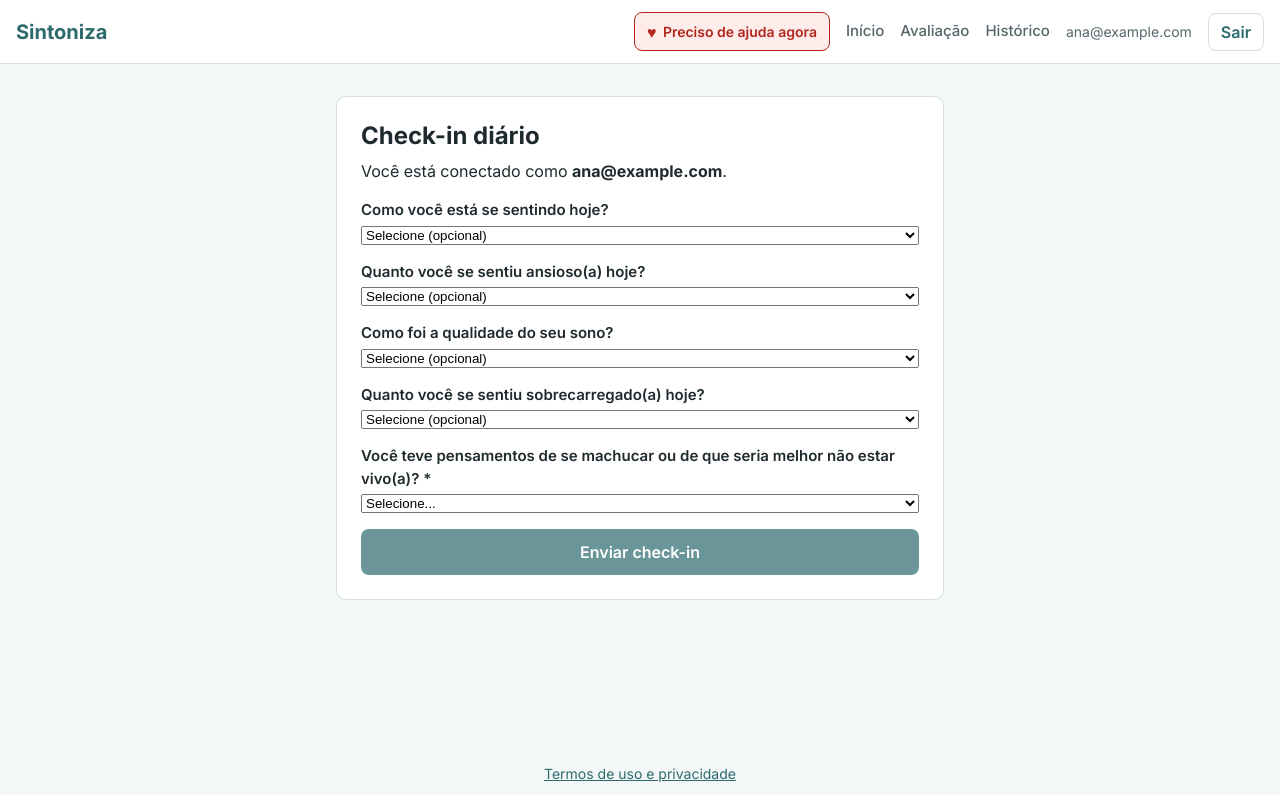
it: DailyCheckin with P5 = Sim (R-D1) › opens the help screen after saving the check-in
The width and height of the screenshot is (1280, 795).
Select "Sim" in the dropdown labelled "pensamentos de se machucar". click: (640,504)
box: 361,494 -> 919,513
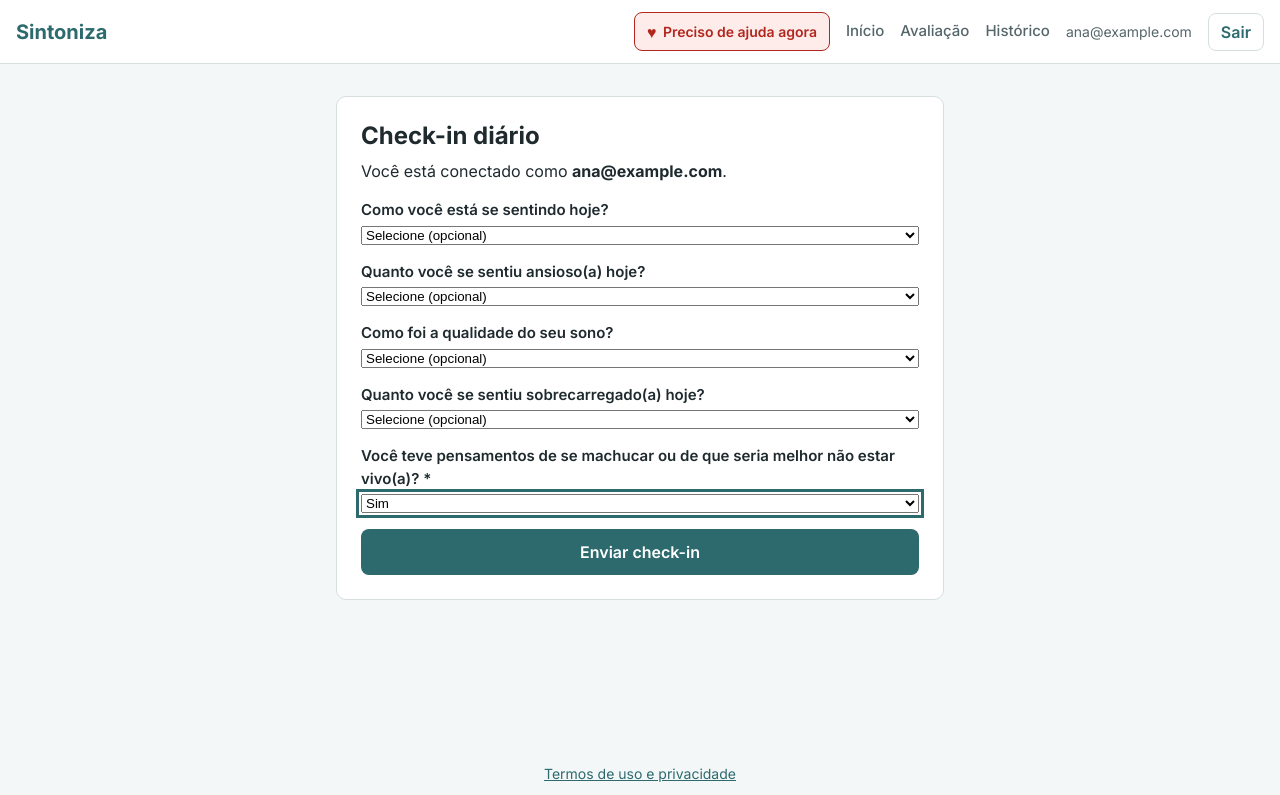
Click the button "Enviar check-in". click: (640,552)
box: 361,529 -> 919,575
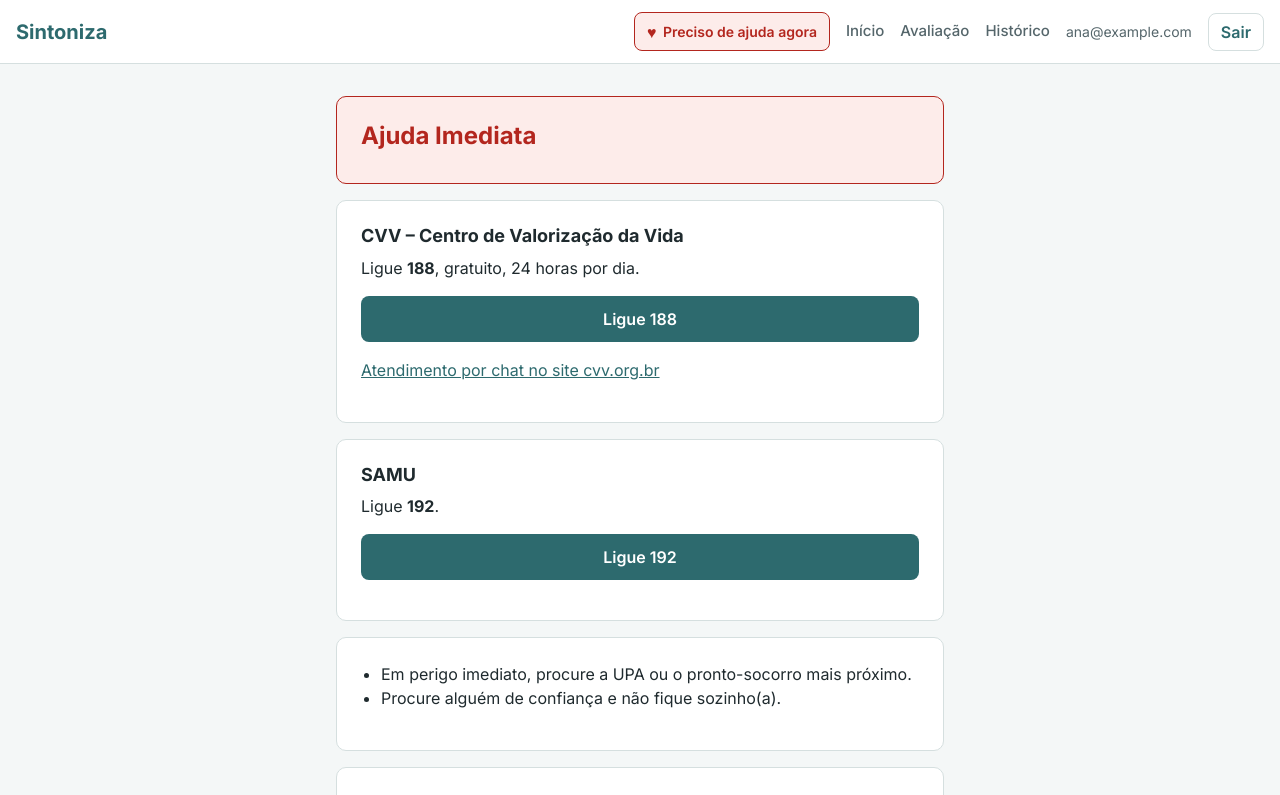
Now the heading "Ajuda Imediata" is shown, box 361,121 -> 536,150
